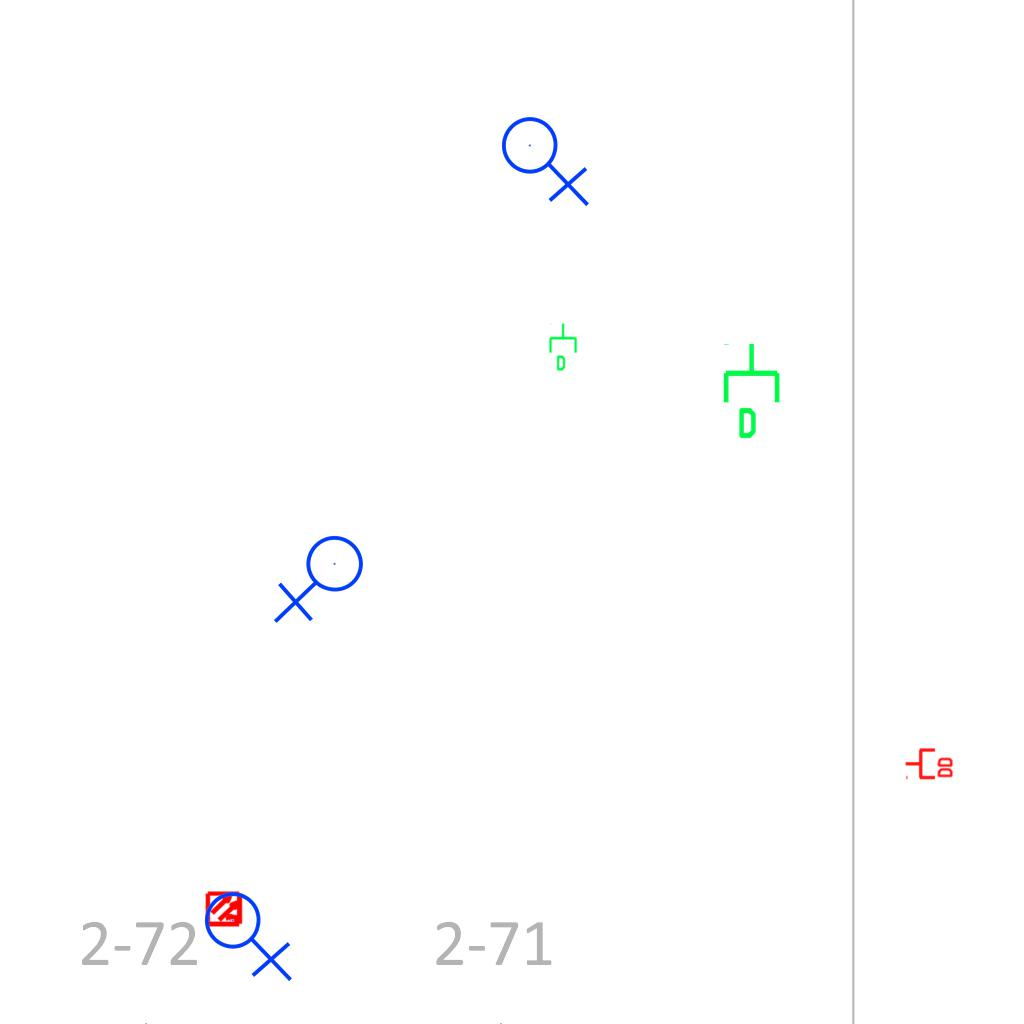Datenanschluss_einfach: (719, 341, 788, 441), (547, 322, 581, 372)
Datenanschluss_zweifach: (904, 746, 955, 780)
Elektroanschluss_allgemein_230V_Geraeteanschlussdose_230V: (500, 108, 594, 207), (273, 534, 372, 628), (203, 883, 297, 982)
OT_Multisensormelder_(Kombination_RMO_WMD): (197, 881, 253, 937)
